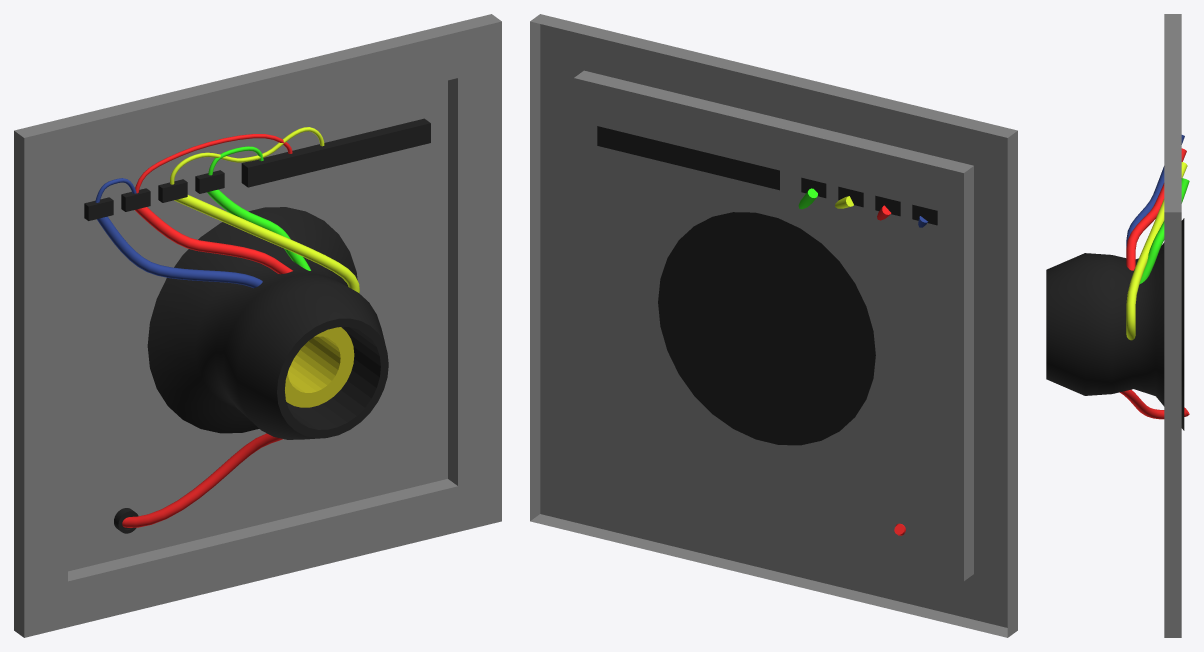
File: LAZER-DISI.fbx
3 renders of one model, left to right at view 1: azimuth 30°, elevation 25°; view 2: azimuth 150°, elevation 25°; view 3: azimuth 270°, elevation 25°, orthographic. The views are drawn at different scales.
Visible parts, largest first — view 1: Plane008, Cylinder003, Box008, Line012, Line010, Line014, Line011, Line013, Line016, Line017; view 2: Plane008, Cylinder003, Box008; view 3: Cylinder003, Plane008, Line012, Line011, Line013, Line014, Line010.
Boxes of the visible parts, x1,y1,x2,y2 form: Plane008: [14, 14, 501, 637]; Cylinder003: [147, 207, 388, 439]; Box008: [241, 118, 430, 187]; Line012: [174, 195, 359, 292]; Line010: [97, 216, 262, 288]; Line014: [122, 433, 282, 527]; Line011: [135, 207, 292, 274]; Line013: [207, 189, 310, 270]; Line016: [135, 134, 292, 193]; Line017: [170, 127, 324, 184]; Plane008: [530, 14, 1017, 637]; Cylinder003: [658, 212, 875, 445]; Box008: [597, 126, 779, 190]; Cylinder003: [1046, 218, 1184, 430]; Plane008: [1164, 14, 1181, 637]; Line012: [1126, 162, 1187, 340]; Line011: [1126, 148, 1186, 270]; Line013: [1139, 178, 1189, 284]; Line014: [1119, 389, 1189, 419]; Line010: [1126, 135, 1184, 247].
Bounding box in the file's own units: 50 × 50 × 15.27.
